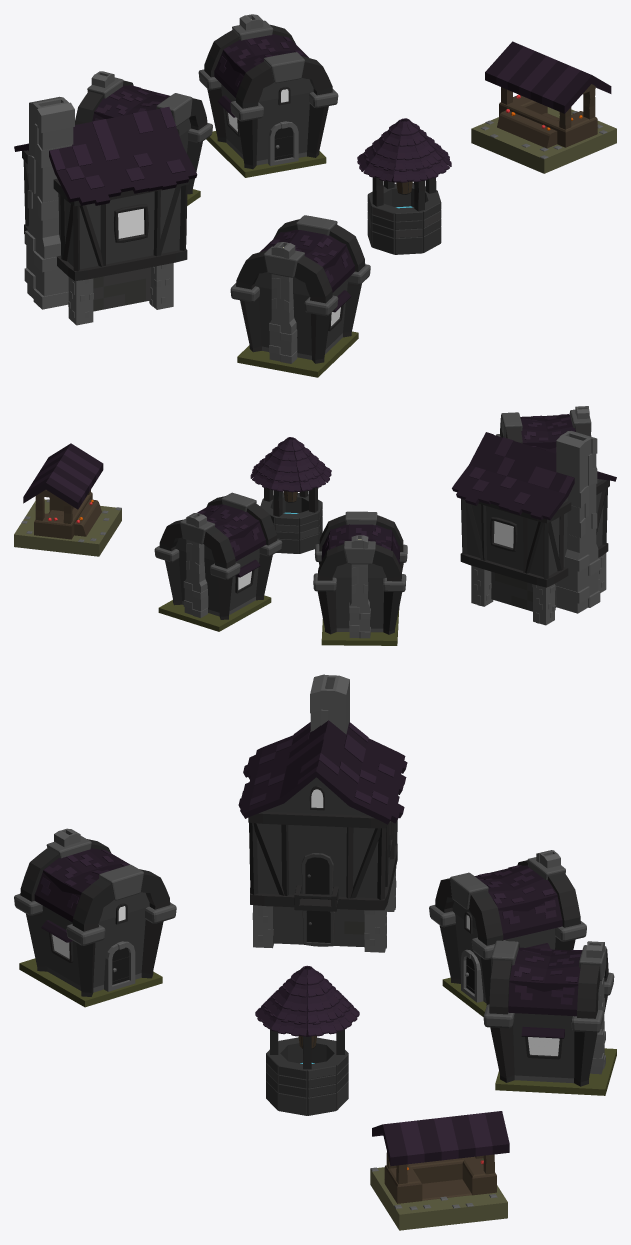
Rendered from Darkspeare.glb.
3 renders of one model, top to bottom at view 1: azimuth 30°, elevation 25°; view 2: azimuth 150°, elevation 25°; view 3: azimuth 270°, elevation 25°, orthographic. The views are drawn at different scales.
Visible parts, largest first — view 1: House Middle.009, House .011, House .008, Market Stall.009, Well.003, House .007; view 2: House Middle.009, House .008, House .007, Market Stall.009, Well.003, House .011; view 3: House Middle.009, House .011, House .008, House .007, Market Stall.009, Well.003.
Boxes of the visible parts, bbox=[...] form: House Middle.009: bbox=[14, 96, 197, 325]; House .011: bbox=[230, 215, 370, 377]; House .008: bbox=[198, 14, 338, 177]; Market Stall.009: bbox=[471, 41, 616, 173]; Well.003: bbox=[357, 118, 451, 254]; House .007: bbox=[75, 71, 212, 205]; House Middle.009: bbox=[452, 431, 616, 625]; House .008: bbox=[154, 492, 282, 631]; House .007: bbox=[313, 511, 407, 645]; Market Stall.009: bbox=[14, 443, 121, 556]; Well.003: bbox=[250, 437, 331, 553]; House .011: bbox=[496, 406, 596, 468]; House Middle.009: bbox=[238, 674, 407, 952]; House .011: bbox=[14, 828, 176, 1007]; House .008: bbox=[483, 940, 616, 1095]; House .007: bbox=[429, 850, 586, 1016]; Market Stall.009: bbox=[370, 1111, 509, 1230]; Well.003: bbox=[255, 965, 359, 1115].
Bounding box in the file's own units: 2.09 × 0.6876 × 1.62.
